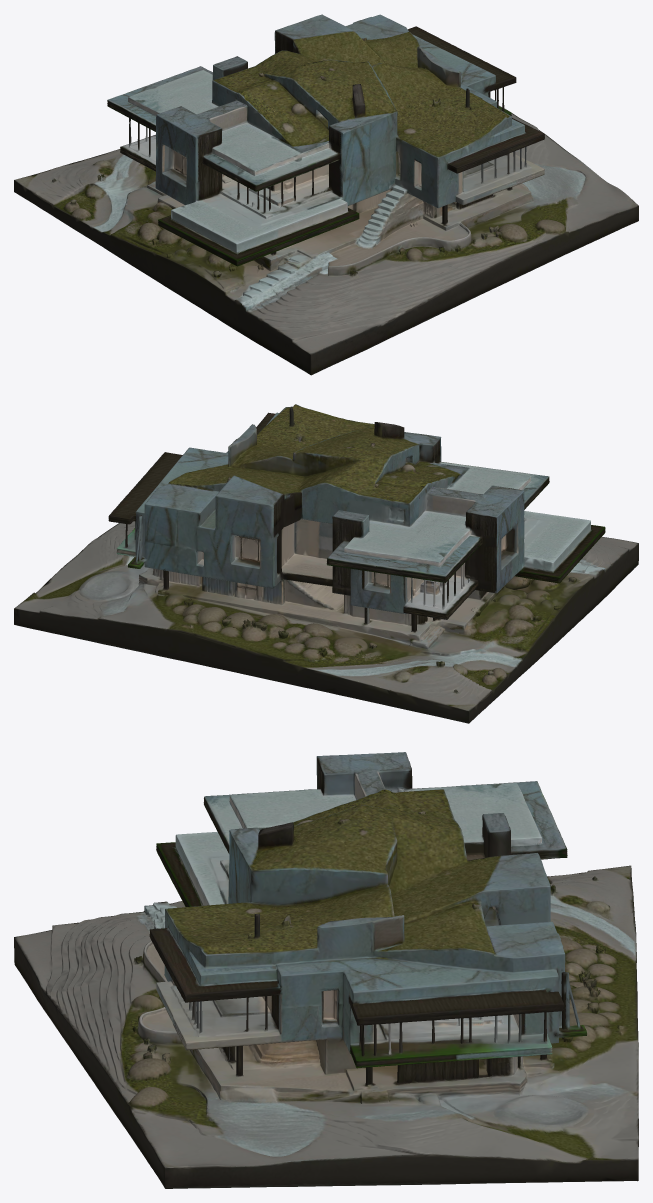
File: modern-house.glb
3 views of the same model, one above another, from view 1: azimuth 30°, elevation 25°; view 2: azimuth 150°, elevation 25°; view 3: azimuth 270°, elevation 25° (orthographic). The views are drawn at different scales.
Parts seen in each view (by area): view 1: tripo_node_4a82383a-9d9e-4ce0-a8ea-e166a028eb5d; view 2: tripo_node_4a82383a-9d9e-4ce0-a8ea-e166a028eb5d; view 3: tripo_node_4a82383a-9d9e-4ce0-a8ea-e166a028eb5d.
Part boxes in pixels (box(x1,y1,x2,y2)): tripo_node_4a82383a-9d9e-4ce0-a8ea-e166a028eb5d: box(14, 14, 638, 375); tripo_node_4a82383a-9d9e-4ce0-a8ea-e166a028eb5d: box(14, 404, 638, 723); tripo_node_4a82383a-9d9e-4ce0-a8ea-e166a028eb5d: box(14, 752, 638, 1188).
Bounding box in the file's own units: 0.9798 × 0.3704 × 0.8823.
1 material, 1 textured.
